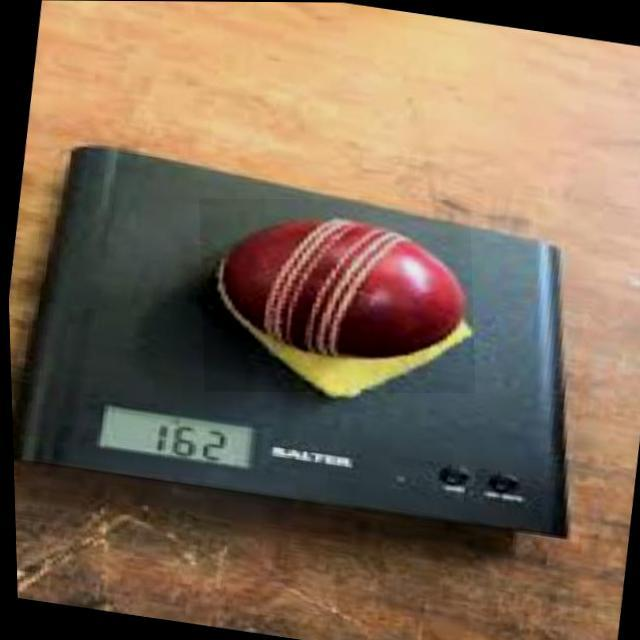-: (198, 198, 473, 393)
